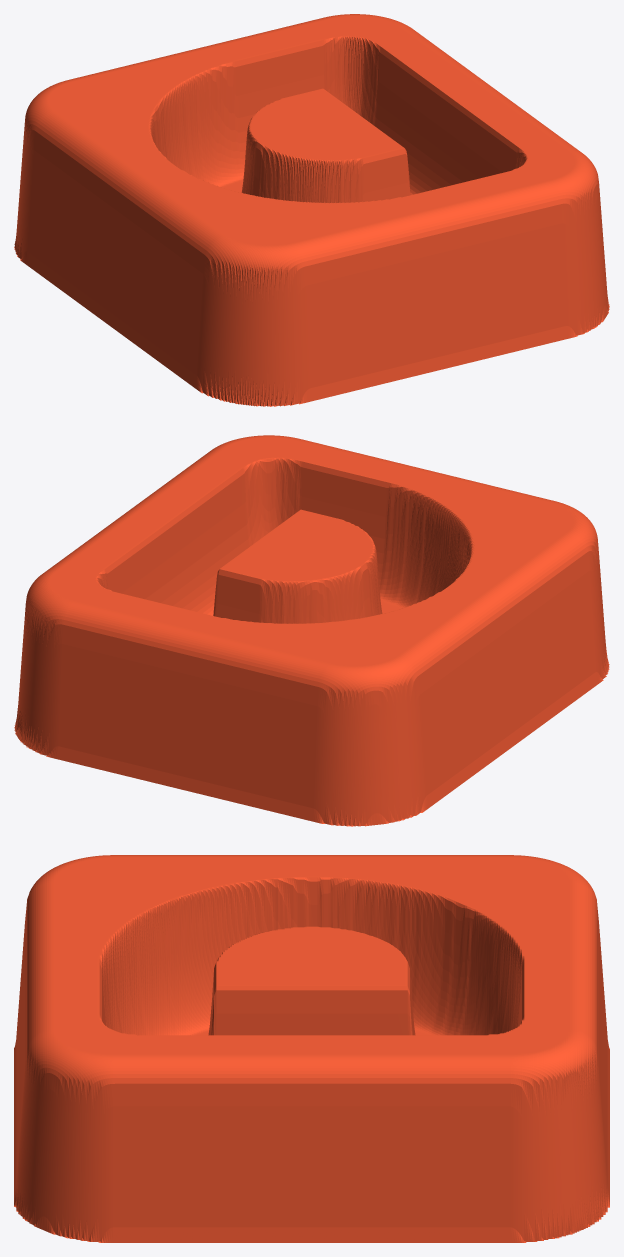
The model's file is mold.glb.
3 renders of one model, top to bottom at view 1: azimuth 30°, elevation 25°; view 2: azimuth 150°, elevation 25°; view 3: azimuth 270°, elevation 25°, orthographic. The views are drawn at different scales.
Parts seen in each view (by area): view 1: geometry_0; view 2: geometry_0; view 3: geometry_0.
Boxes of the visible parts, x1,y1,x2,y2 form: geometry_0: [14, 14, 609, 406]; geometry_0: [14, 435, 609, 826]; geometry_0: [14, 855, 609, 1242].
Size of the model in its own units: 0.0496 by 0.0172 by 0.0542.
